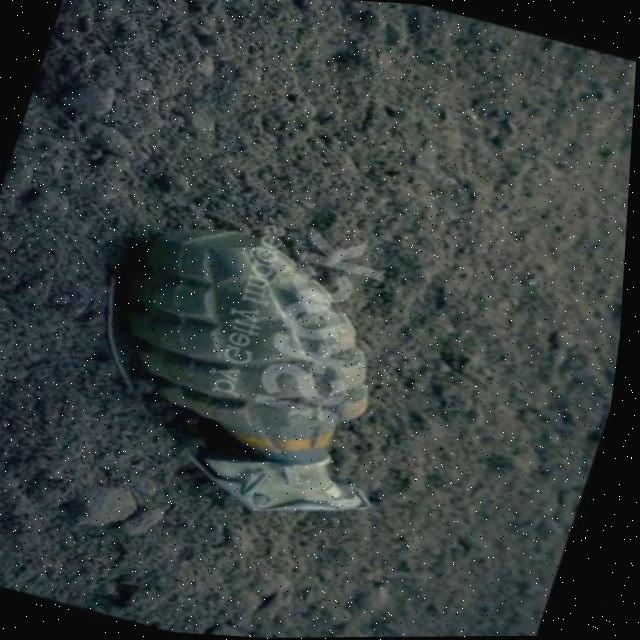grenade: (65, 204, 439, 537)
